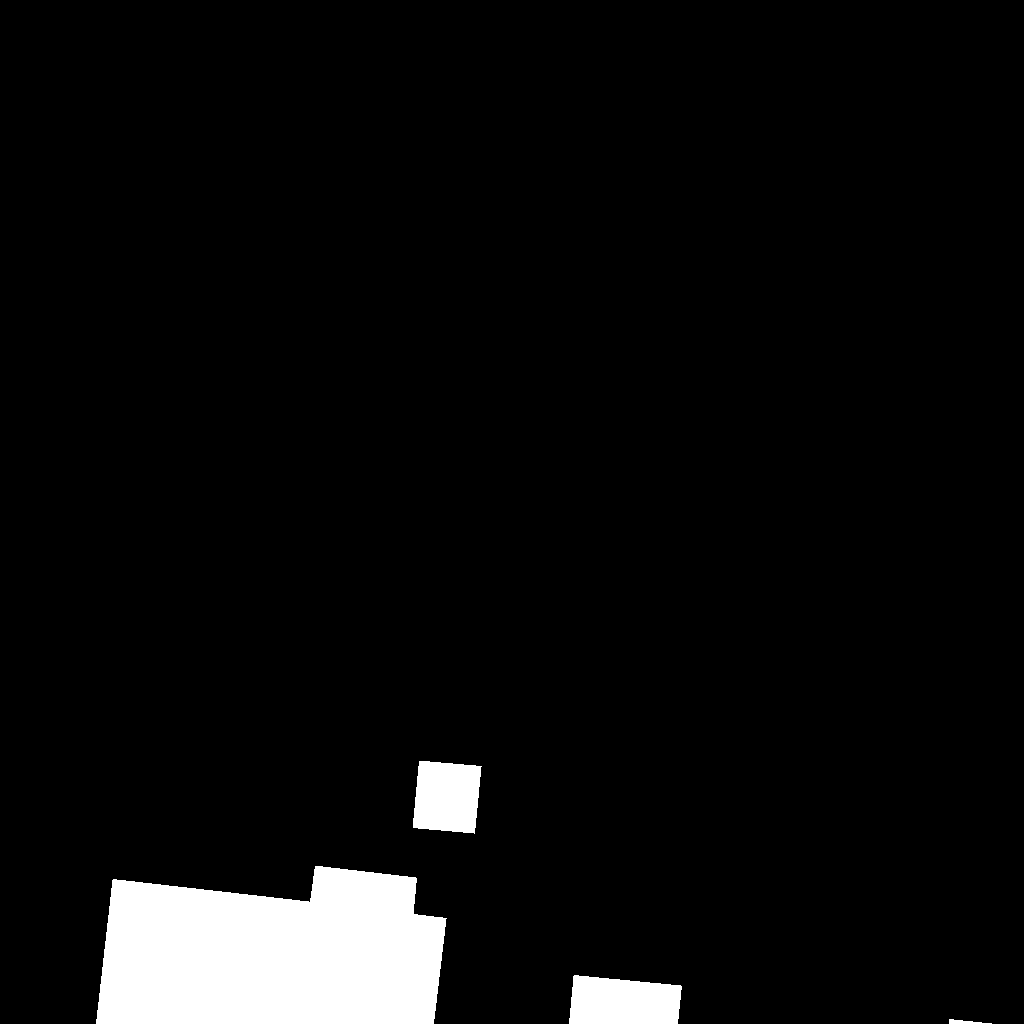building: (96, 866, 447, 1024), (569, 975, 683, 1024), (413, 761, 482, 834), (949, 1019, 994, 1024)
